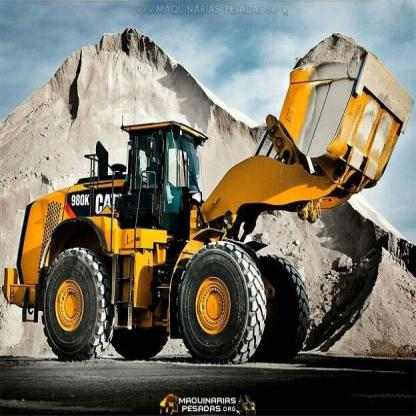bull_dozer/loader/grader: (4, 27, 416, 374)
